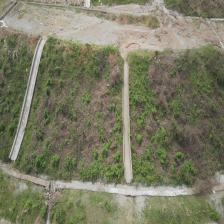rock_toe: (9, 37, 46, 162), (122, 56, 133, 184)
toe_drain: (0, 160, 195, 205)
